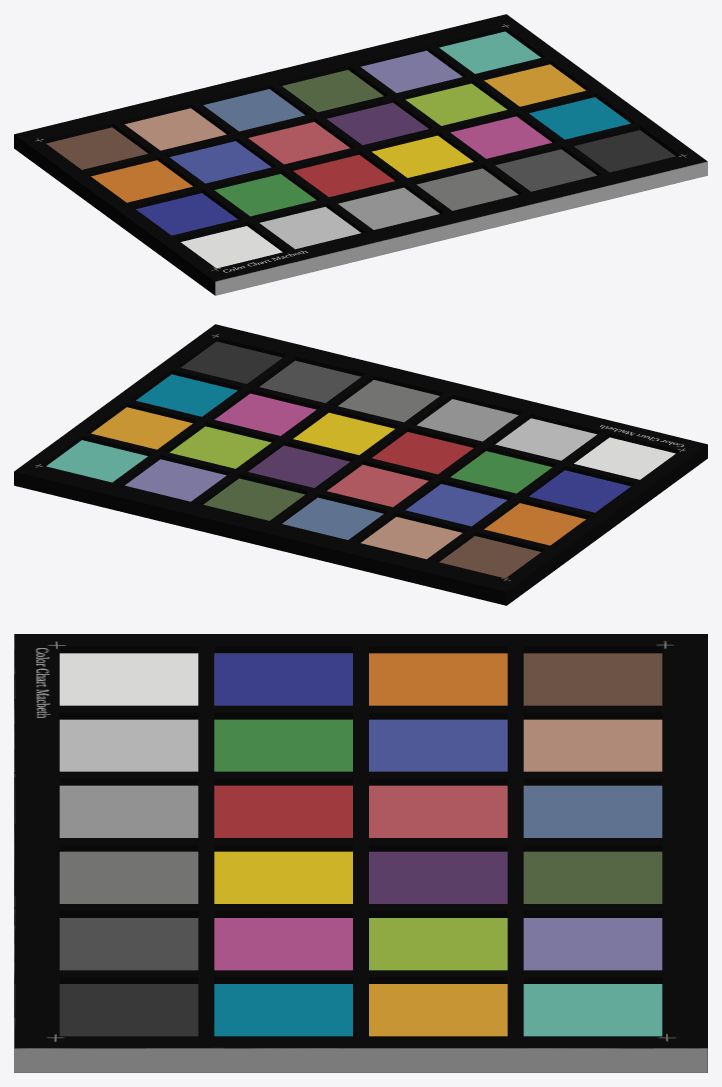
Rendered from macbeth_chart_color_checker_3d_model_free.glb.
3 renders of one model, top to bottom at view 1: azimuth 30°, elevation 25°; view 2: azimuth 150°, elevation 25°; view 3: azimuth 270°, elevation 25°, orthographic. The views are drawn at different scales.
Parts seen in each view (by area): view 1: pCube1; view 2: pCube1; view 3: pCube1.
Boxes of the visible parts, left/top/right/bottom form: pCube1: left=14, top=14, right=707, bottom=295; pCube1: left=14, top=324, right=707, bottom=605; pCube1: left=14, top=634, right=707, bottom=1072.
Bounding box in the file's own units: 0.6128 × 0.0168 × 0.4338.
Materials: 1 (1 with a texture image).
